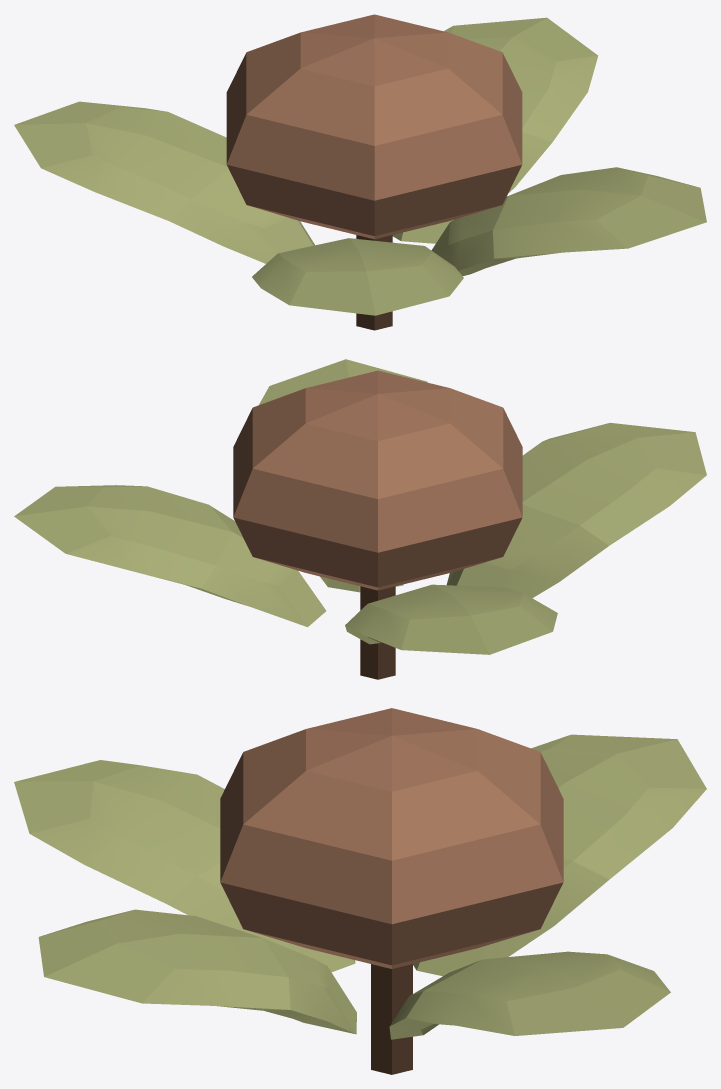
Rendered from Bloem3.fbx.
3 views of the same model, one above another, from view 1: azimuth 30°, elevation 25°; view 2: azimuth 150°, elevation 25°; view 3: azimuth 270°, elevation 25° (orthographic). The views are drawn at different scales.
Visible parts, largest first — view 1: LaagBloempje; view 2: LaagBloempje; view 3: LaagBloempje.
Boxes of the visible parts, x1,y1,x2,y2 form: LaagBloempje: [14, 14, 706, 330]; LaagBloempje: [14, 359, 706, 679]; LaagBloempje: [14, 708, 706, 1074].
Bounding box in the file's own units: 0.0293 × 0.0151 × 0.0284.
